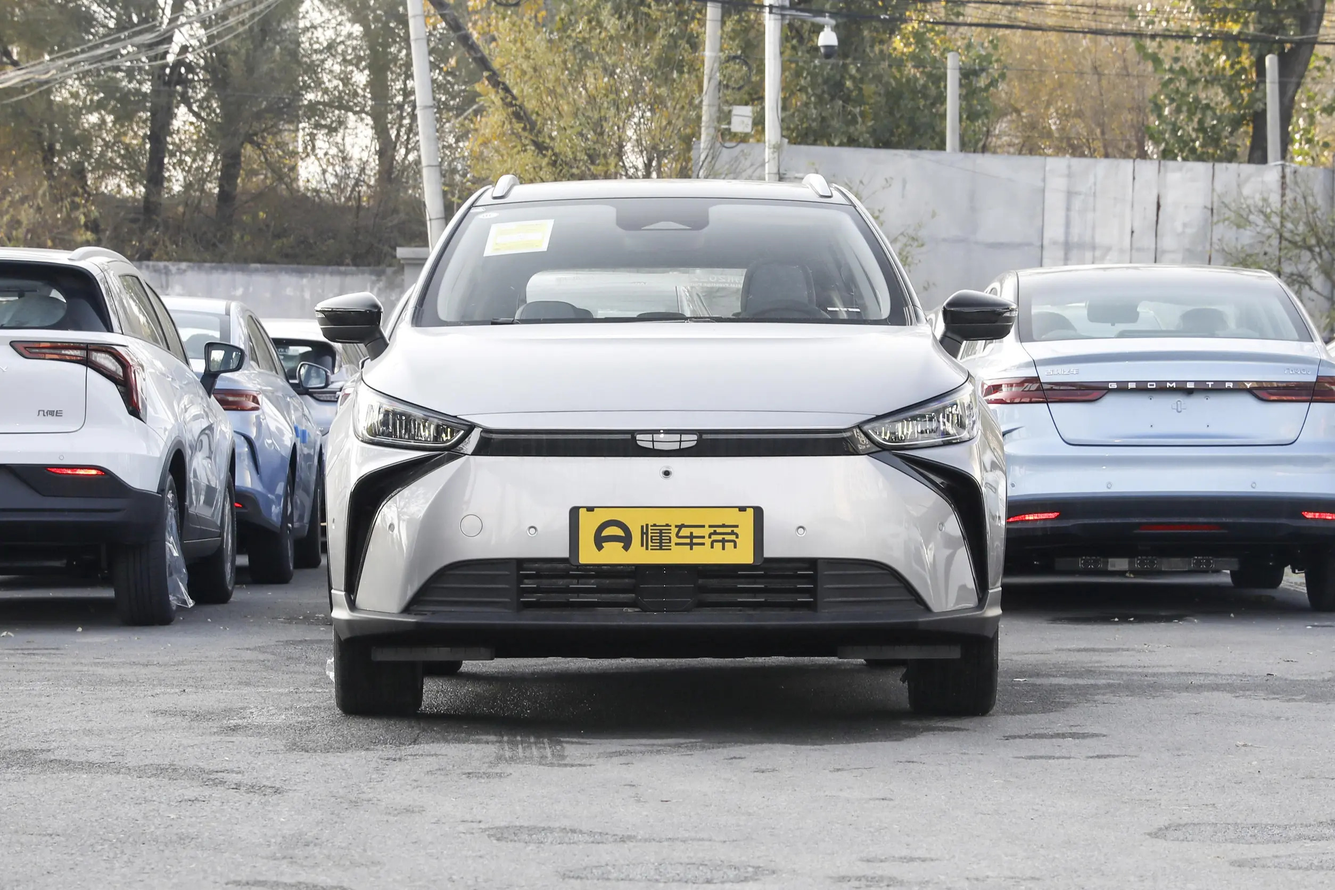GEOMETRY: (637, 434, 697, 449)
